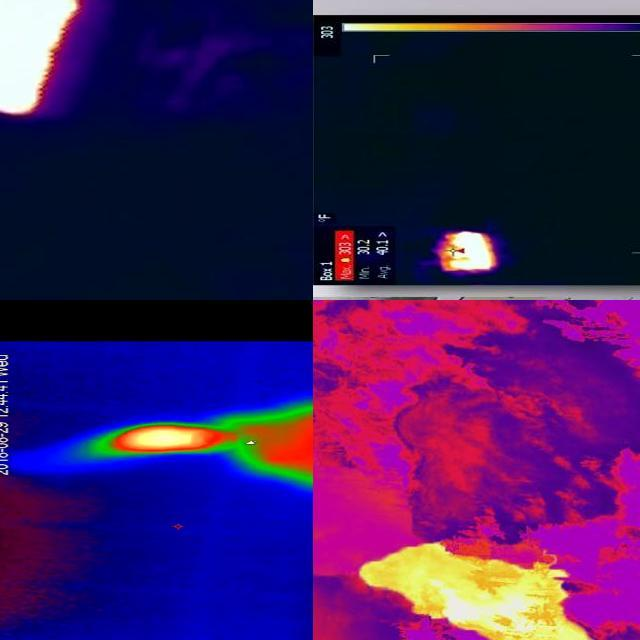fire: (356, 543, 597, 640), (1, 1, 85, 118), (98, 422, 234, 456), (436, 229, 499, 272)
